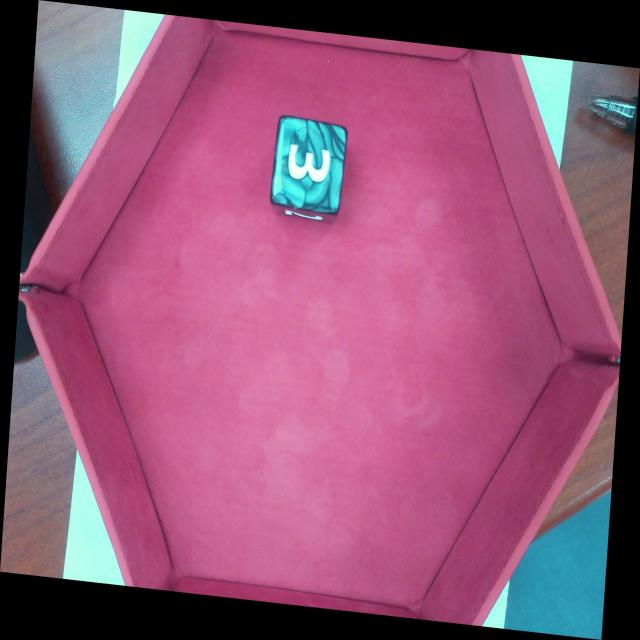dice: (274, 118, 345, 211)
